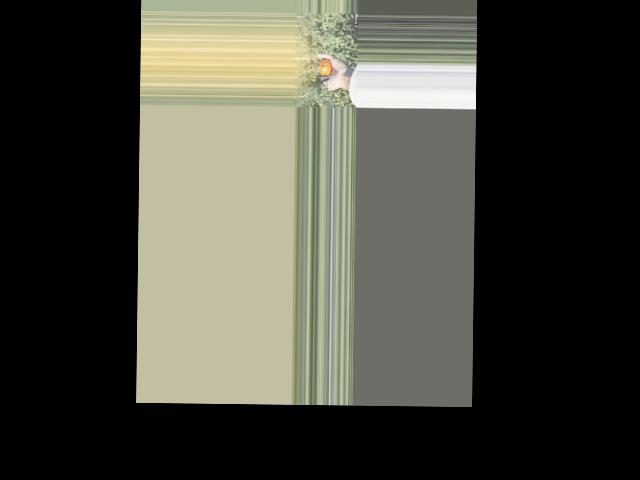tomato: (317, 58, 332, 74)
